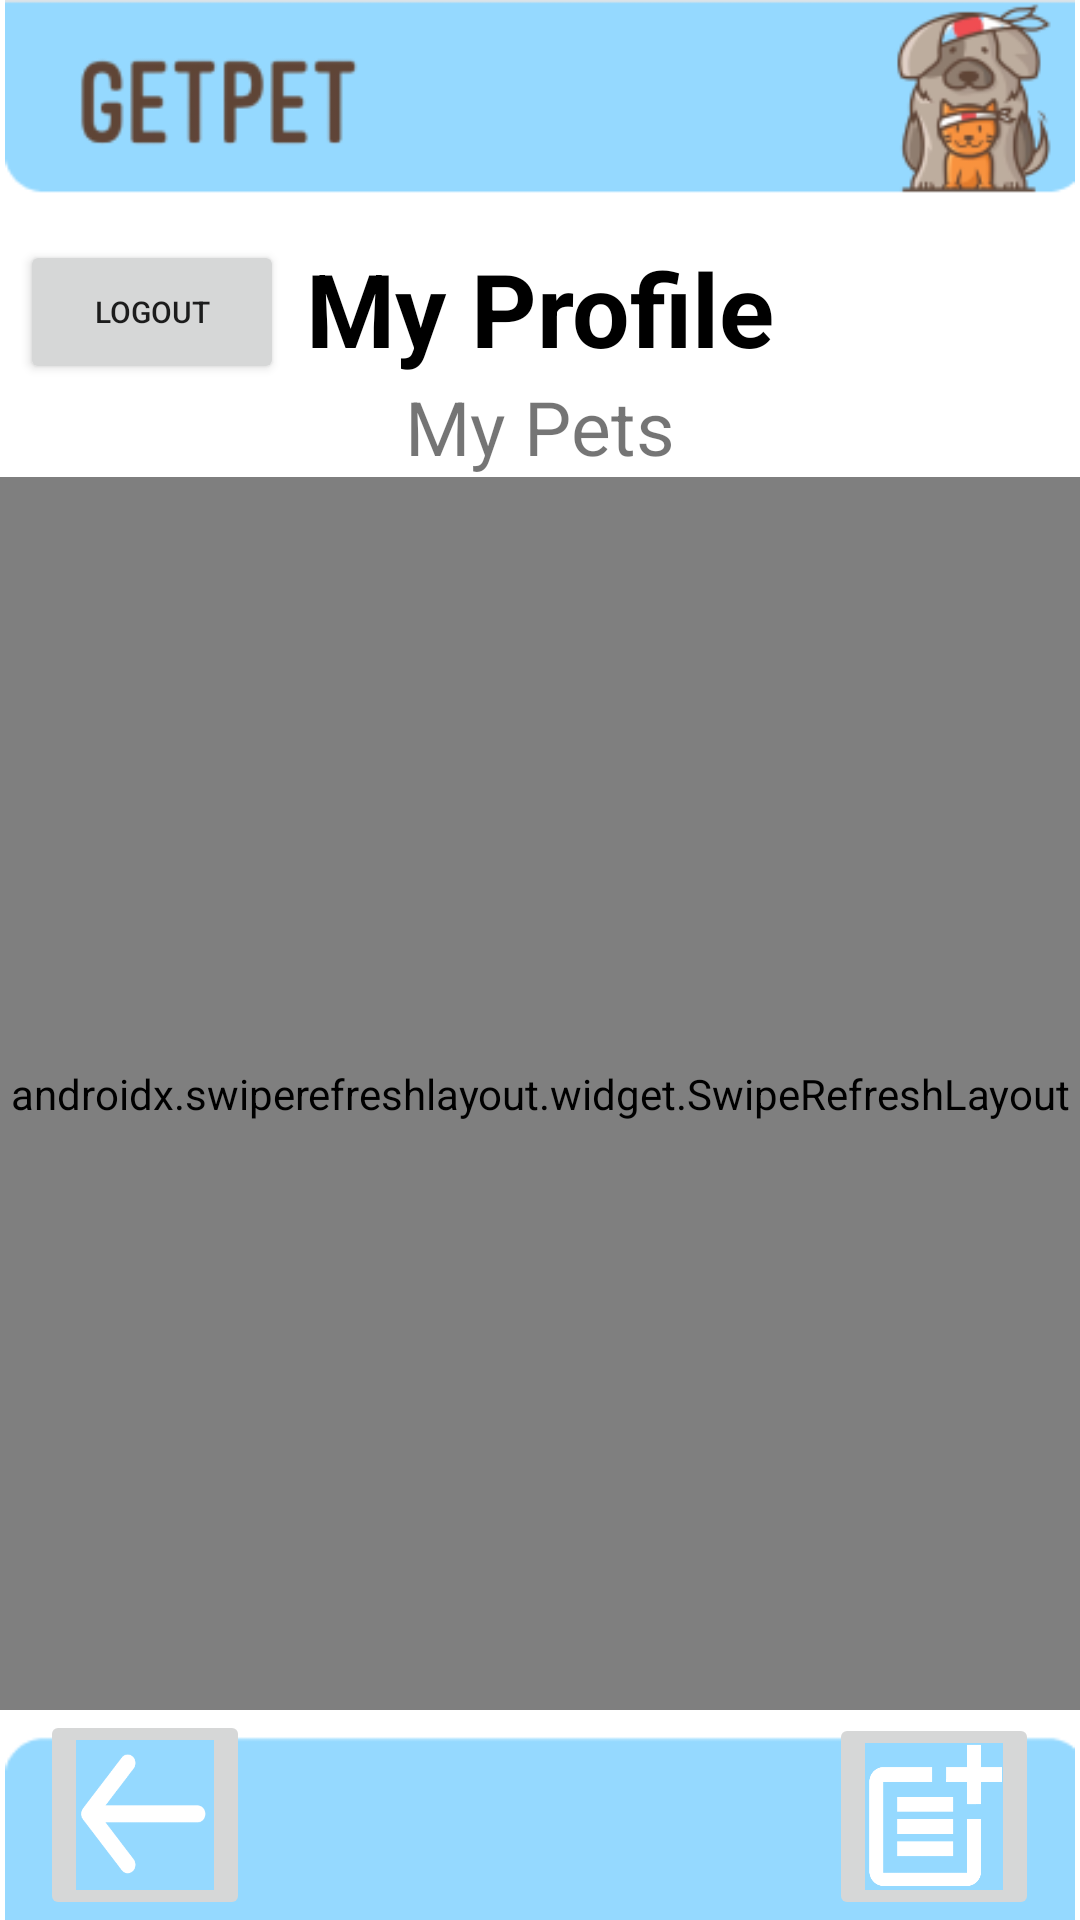

Icons on this 1080px x 1920px Android screen, each with the point to tap as (x=x, y=y):
addpost: (x=934, y=1816)
back: (x=145, y=1815)
